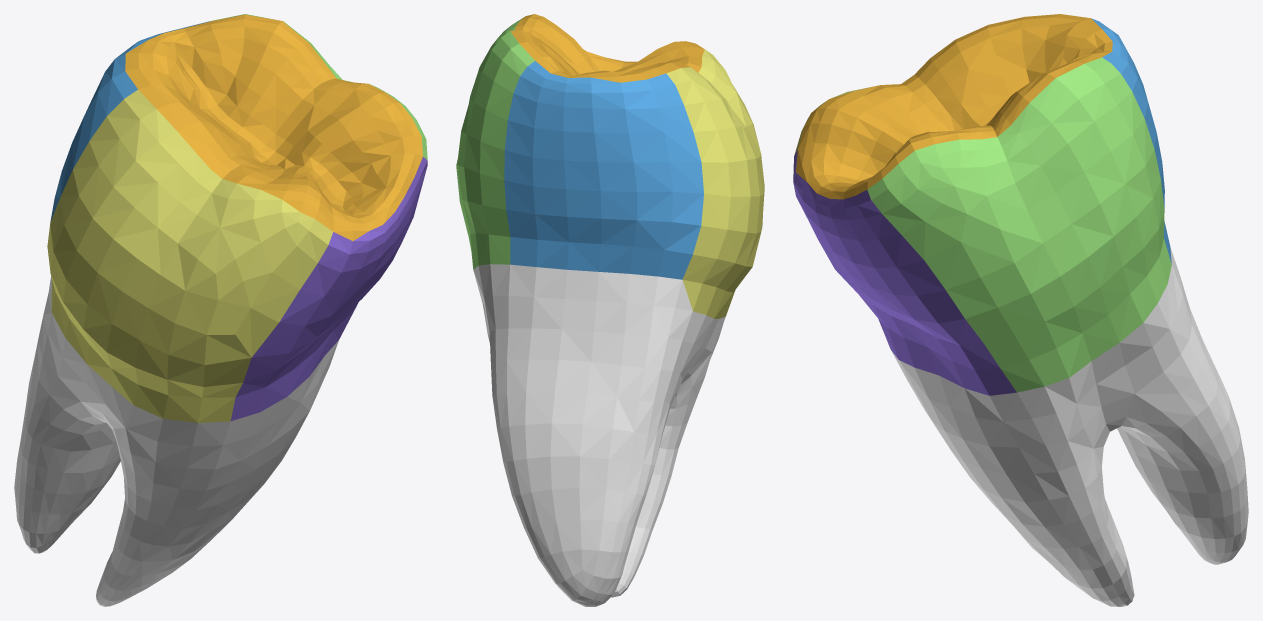
Rendered from tooth_47_annotated.glb.
3 views of the same model, side by side, from view 1: azimuth 30°, elevation 25°; view 2: azimuth 150°, elevation 25°; view 3: azimuth 270°, elevation 25° (orthographic). The views are drawn at different scales.
Visible parts, largest first — view 1: FDI_47; view 2: FDI_47; view 3: FDI_47.
Boxes of the visible parts, left/top/right/bottom form: FDI_47: left=14, top=14, right=427, bottom=606; FDI_47: left=456, top=14, right=764, bottom=606; FDI_47: left=793, top=14, right=1248, bottom=606.
Size of the model in its own units: 0.0101 by 0.0175 by 0.012.
